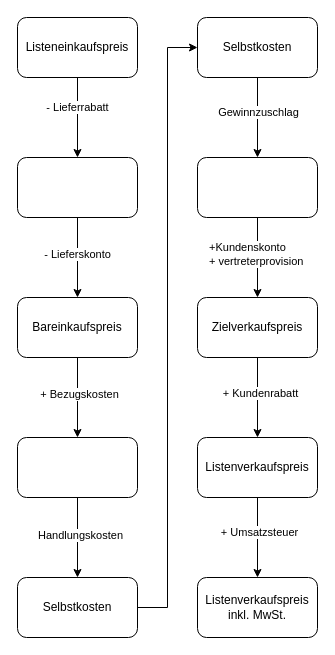
The diagram is 335 pixels wide and 655 high, and some of its shapes have lost their labels. The shapes that lost their labels are listed below. From the top down, each one's centre as x and y in pixels, then its label:
(77,187): Zieleinkaufspreis
(257,187): Barverkaufspreis
(77,467): Bezugspreis
